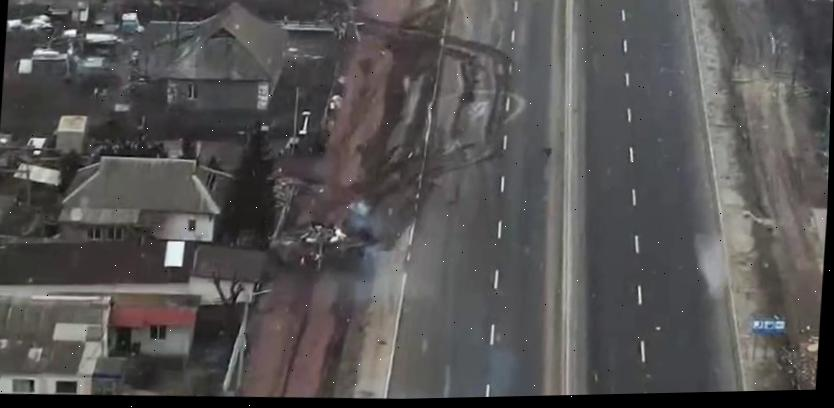tank: (264, 221, 366, 268)
